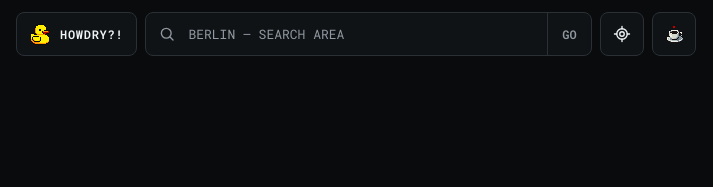
Test: LocationSearch › supports arrow selection, Enter, and Escape
Type "Ca" into the dropdown at (363, 34), box [178,13,547,55]
Wait 250 ms
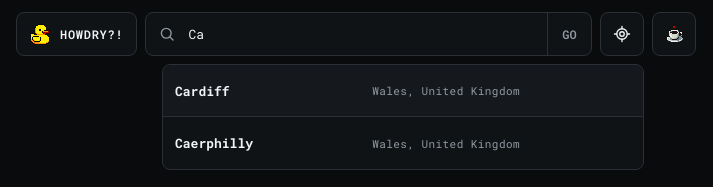
Press ArrowDown in the dropdown, box [178,13,547,55]
Submit the form named "combobox", box [145,12,592,56]
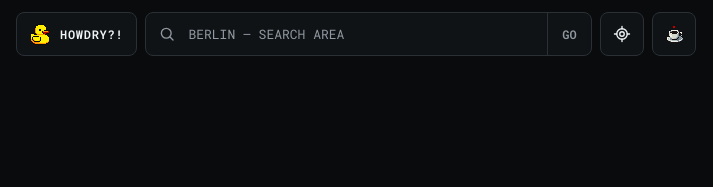
expect the dropdown is empty: met
Type "Ca" into the dropdown at (363, 34), box [178,13,547,55]
Wait 250 ms
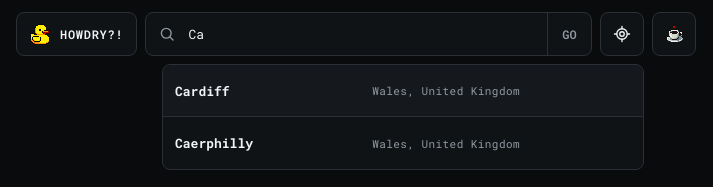
expect the list is shown: met, box [162,64,644,170]
Press Escape in the dropdown, box [178,13,547,55]
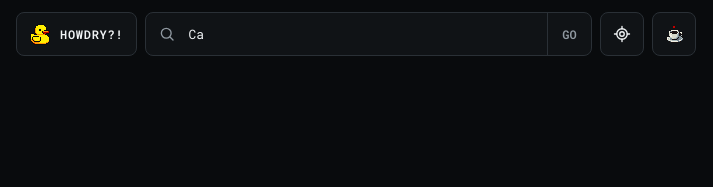
expect the list is gone: met
